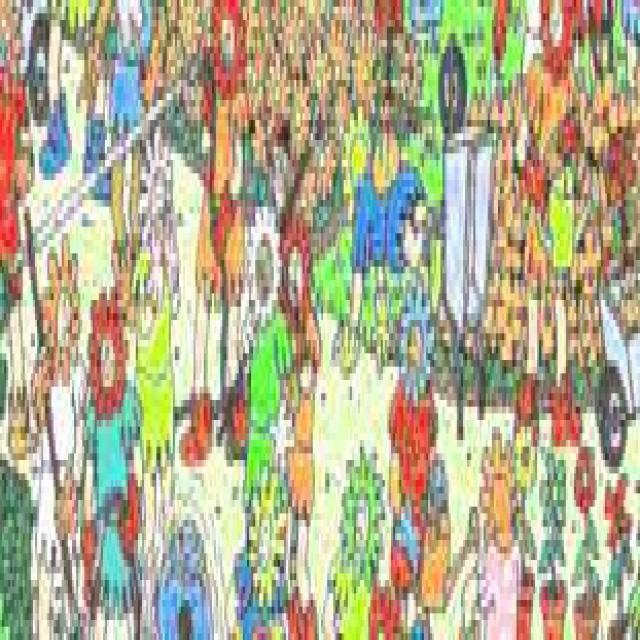waldo: (264, 107, 290, 213)
